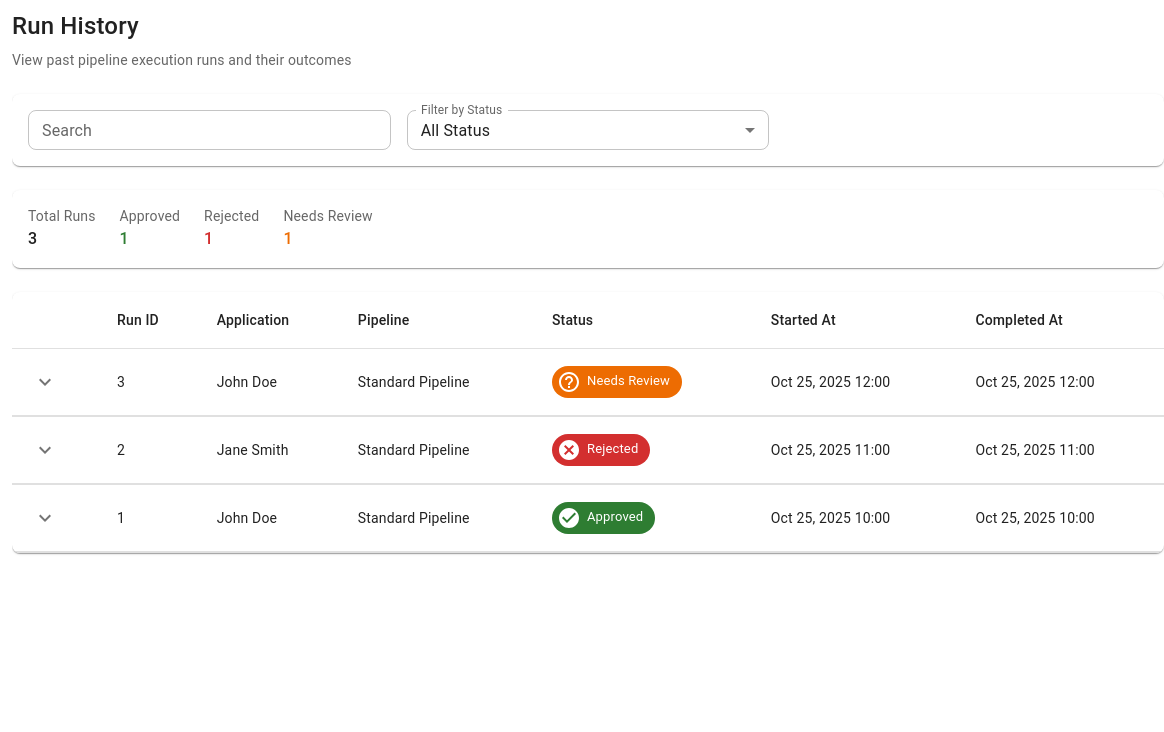
Test: Runs Page › Search Functionality › should filter runs by application name
The width and height of the screenshot is (1164, 732).
In the field with placeholder "Search by Run ID, Application, or Pipeline": (209, 130) [28, 110, 391, 150], type "jane"
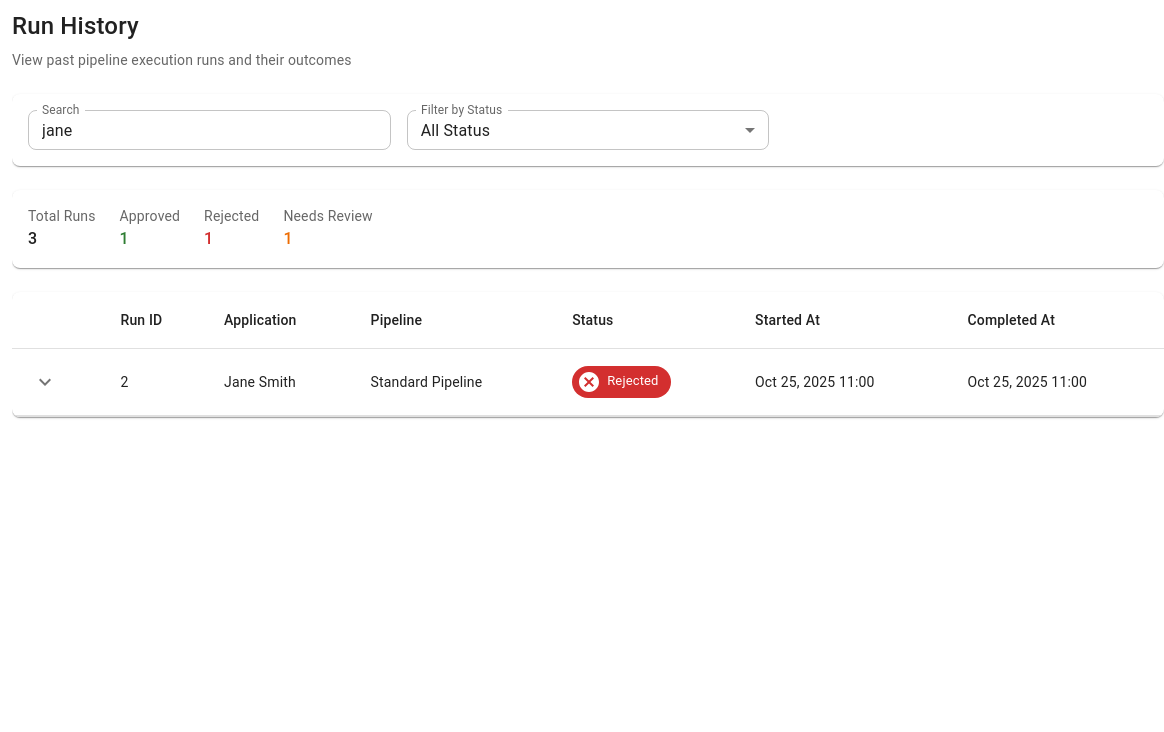
Expected: the text "Jane Smith" is shown, [208, 348, 354, 415]
Expected: the text "John Doe" is gone
